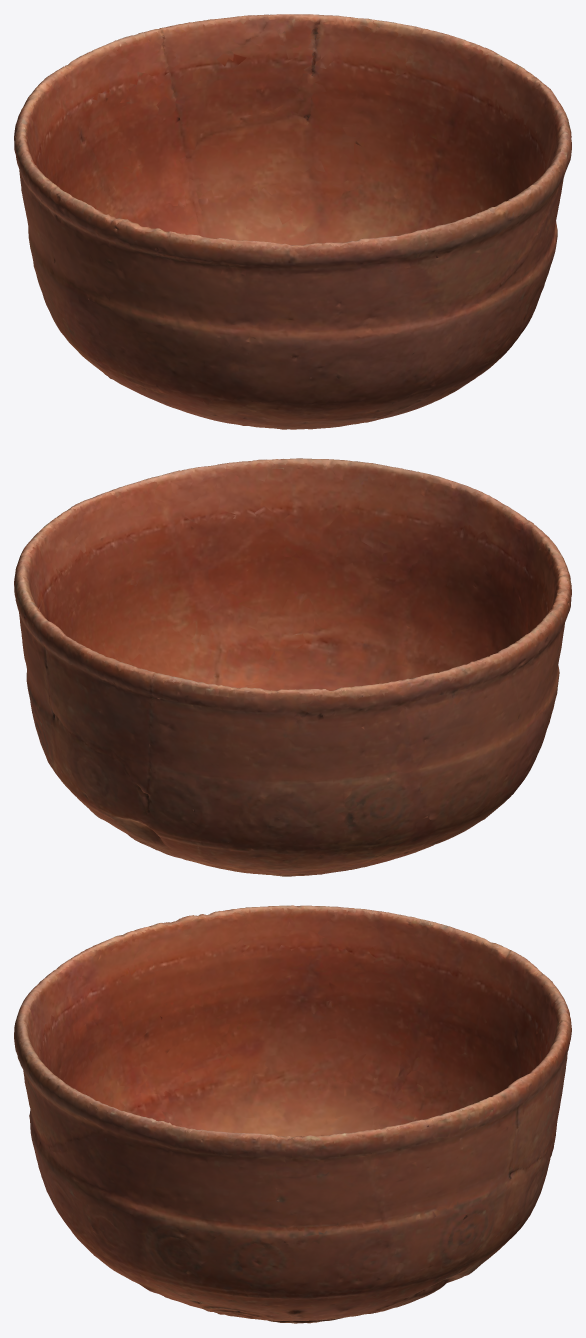
File: sigillata_gltf.gltf
The picture shows the model from 3 angles, top to bottom: view 1: azimuth 30°, elevation 25°; view 2: azimuth 150°, elevation 25°; view 3: azimuth 270°, elevation 25°; orthographic projection.
Visible parts, largest first — view 1: texturedMesh.001; view 2: texturedMesh.001; view 3: texturedMesh.001.
Part boxes in pixels (x1,y1,x2,y2): texturedMesh.001: (14, 14, 571, 429); texturedMesh.001: (14, 458, 571, 876); texturedMesh.001: (14, 905, 571, 1323).
Size of the model in its own units: 0.3035 by 0.1616 by 0.3033.
1 material, 1 textured.
